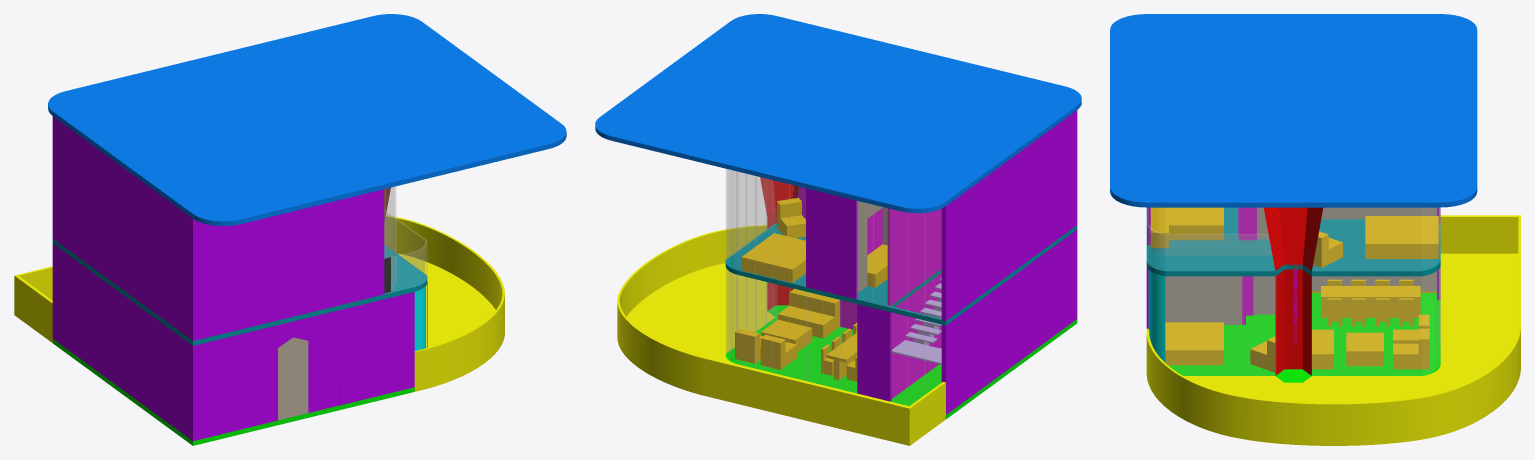
Rendered from ROOM8.glb.
3 renders of one model, left to right at view 1: azimuth 30°, elevation 25°; view 2: azimuth 150°, elevation 25°; view 3: azimuth 270°, elevation 25°, orthographic. The views are drawn at different scales.
Visible parts, largest first — view 1: external walls, top slabs, balconies, bottom slabs, DOORS, floors, glasses; view 2: top slabs, external walls, glasses, balconies, furniture, internal walls, floors, bottom slabs, STAIRCASE, columns; view 3: top slabs, balconies, glasses, furniture, bottom slabs, floors, columns, internal walls, DOORS, external walls.
Boxes of the visible parts, x1,y1,x2,y2 form: external walls: (52, 116, 414, 440); top slabs: (48, 14, 566, 225); balconies: (14, 215, 504, 391); bottom slabs: (52, 239, 427, 345); DOORS: (278, 337, 308, 420); floors: (52, 339, 414, 445); glasses: (384, 186, 427, 351); top slabs: (595, 14, 1081, 213); external walls: (806, 110, 1077, 414); glasses: (726, 169, 941, 405); balconies: (617, 225, 945, 445); furniture: (735, 198, 887, 381); internal walls: (797, 186, 941, 398); floors: (725, 305, 1077, 419); bottom slabs: (725, 223, 1077, 325); STAIRCASE: (892, 278, 941, 364); columns: (760, 177, 798, 310); top slabs: (1110, 14, 1477, 207); balconies: (1146, 208, 1520, 445); glasses: (1148, 207, 1440, 375); furniture: (1150, 207, 1438, 372); bottom slabs: (1146, 207, 1440, 276); floors: (1168, 293, 1440, 382); columns: (1264, 207, 1323, 375); internal walls: (1165, 207, 1297, 350); DOORS: (1253, 207, 1275, 314); external walls: (1146, 207, 1440, 328).
Bounding box in the file's own units: 12.19 × 7.3 × 11.19.
